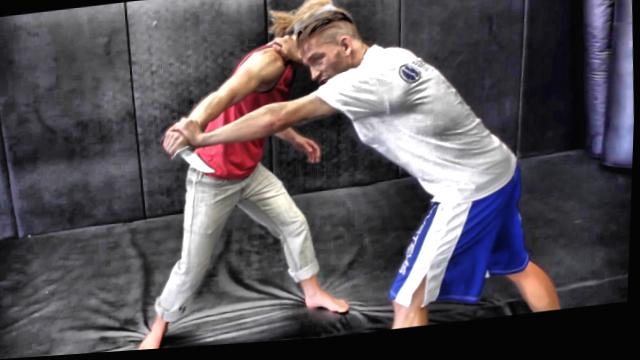knife: (155, 130, 223, 187)
